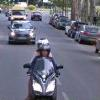Motorcycle: (17, 50, 68, 100)
